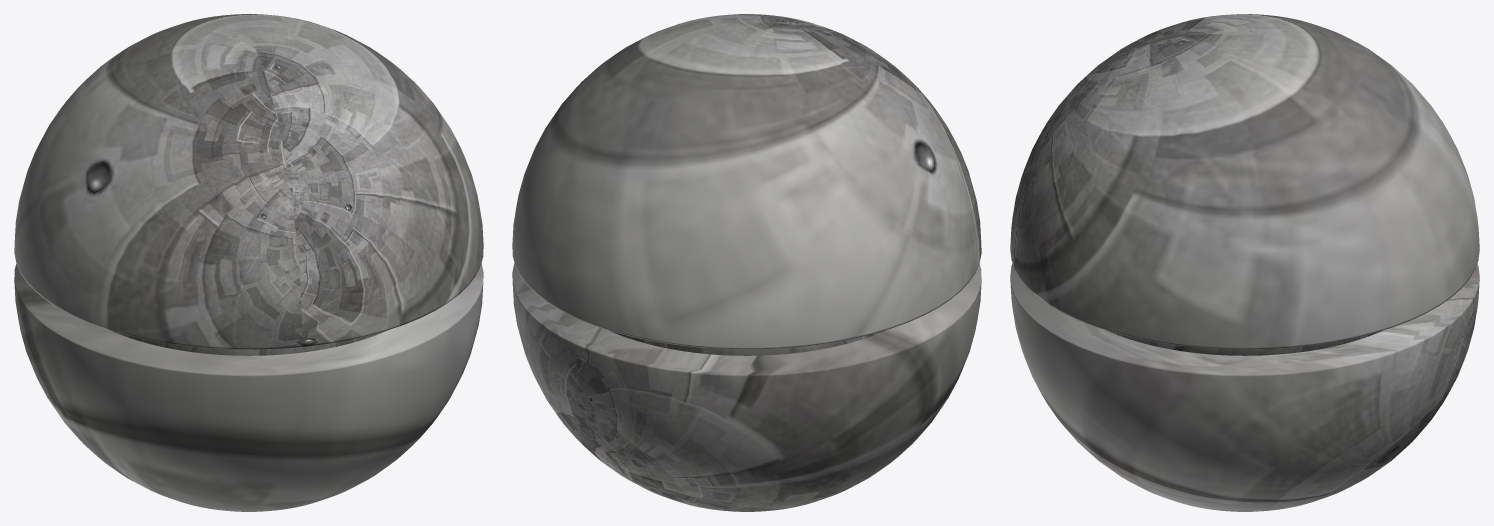
The model's file is droid1.obj.
3 renders of one model, left to right at view 1: azimuth 30°, elevation 25°; view 2: azimuth 150°, elevation 25°; view 3: azimuth 270°, elevation 25°, orthographic.
Parts seen in each view (by area): view 1: Sphere.002; view 2: Sphere.002; view 3: Sphere.002.
Boxes of the visible parts, left/top/right/bottom form: Sphere.002: left=14, top=14, right=483, bottom=511; Sphere.002: left=512, top=14, right=981, bottom=511; Sphere.002: left=1010, top=14, right=1479, bottom=511.
Size of the model in its own units: 2 by 2.14 by 2.
2 materials, 2 textured.
